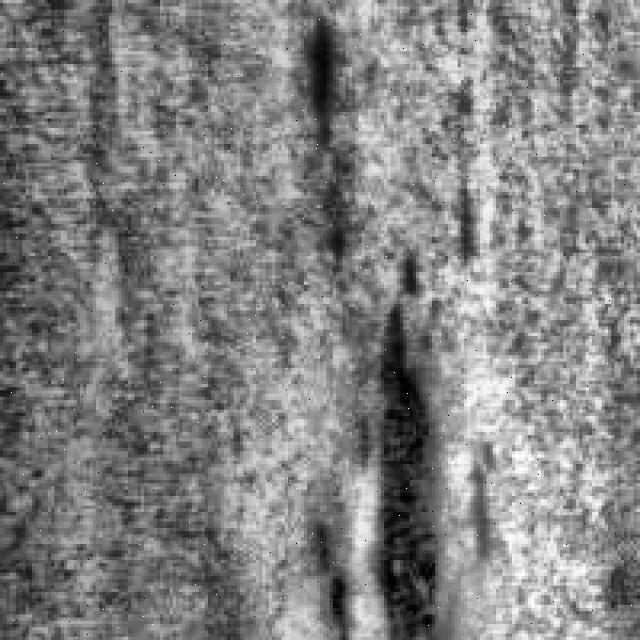Patches: (301, 250, 509, 630), (301, 0, 365, 147)
